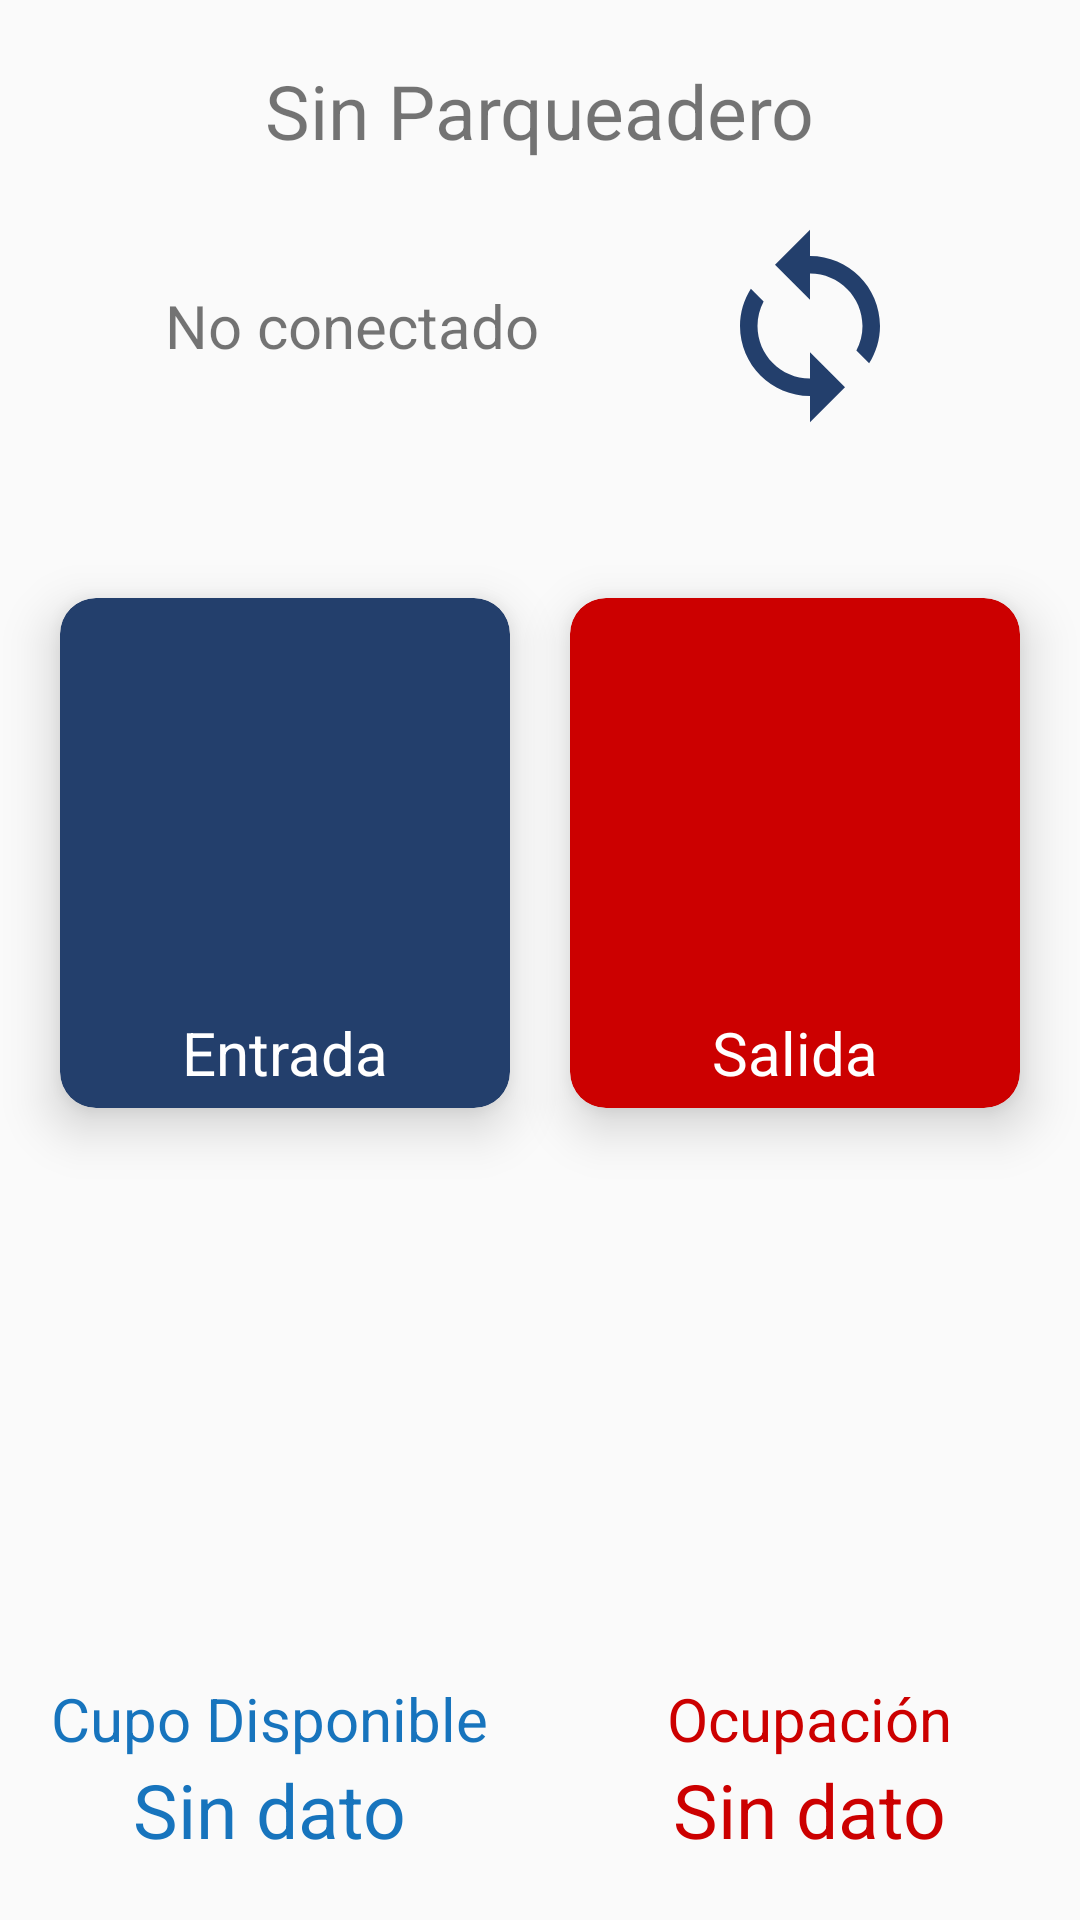

Screen size 1080px×1920px. Icon name, then its center in pixels as (x=x, y=y):
avd sync: (x=810, y=326)
